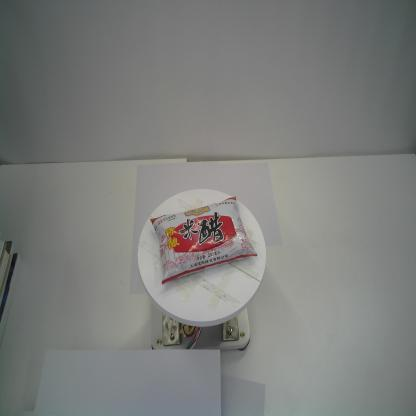Seasoner: (148, 188, 259, 287)
